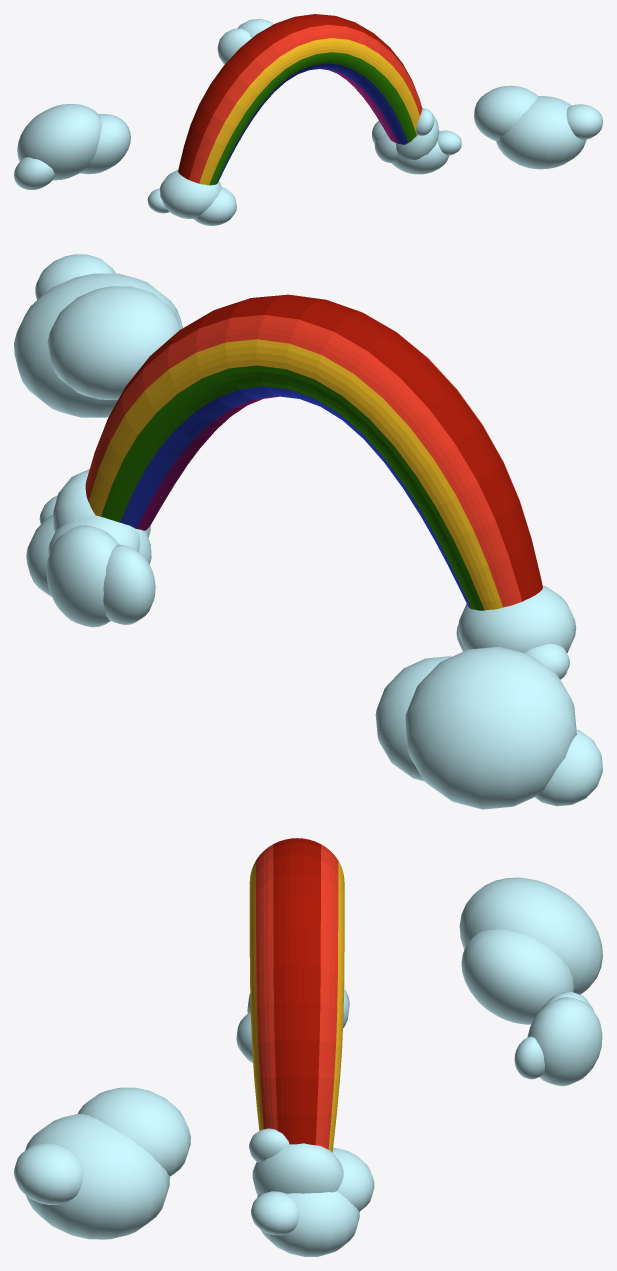
File: Rainbow-full-setfbx.fbx
3 views of the same model, one above another, from view 1: azimuth 30°, elevation 25°; view 2: azimuth 150°, elevation 25°; view 3: azimuth 270°, elevation 25° (orthographic). The views are drawn at different scales.
Parts seen in each view (by area): view 1: Torus.001, Sphere.004, Sphere.007, Sphere.005, Sphere.001, Sphere.000, Sphere.006; view 2: Torus.001, Sphere.007, Sphere.004, Sphere.006, Sphere.005, Sphere.000, Sphere.001; view 3: Torus.001, Sphere.004, Sphere.007, Sphere.000, Sphere.006, Sphere.001, Sphere.005.
Boxes of the visible parts, x1=… form: Torus.001: x1=178, y1=14, x2=422, y2=185; Sphere.004: x1=474, y1=85, x2=602, y2=169; Sphere.007: x1=14, y1=103, x2=130, y2=189; Sphere.005: x1=147, y1=170, x2=236, y2=225; Sphere.001: x1=374, y1=108, x2=438, y2=163; Sphere.000: x1=372, y1=121, x2=461, y2=174; Sphere.006: x1=217, y1=18, x2=273, y2=64; Torus.001: x1=85, y1=294, x2=542, y2=610; Sphere.007: x1=375, y1=646, x2=602, y2=809; Sphere.004: x1=14, y1=254, x2=182, y2=417; Sphere.006: x1=46, y1=525, x2=155, y2=627; Sphere.005: x1=456, y1=585, x2=576, y2=679; Sphere.000: x1=26, y1=495, x2=140, y2=596; Sphere.001: x1=53, y1=469, x2=151, y2=564; Torus.001: x1=249, y1=838, x2=344, y2=1152; Sphere.004: x1=14, y1=1087, x2=190, y2=1239; Sphere.007: x1=459, y1=877, x2=602, y2=1024; Sphere.000: x1=251, y1=1148, x2=374, y2=1256; Sphere.006: x1=514, y1=991, x2=602, y2=1086; Sphere.001: x1=249, y1=1128, x2=343, y2=1195; Sphere.005: x1=236, y1=988, x2=349, y2=1062.
Bounding box in the file's own units: 2662 × 1064 × 1890.
